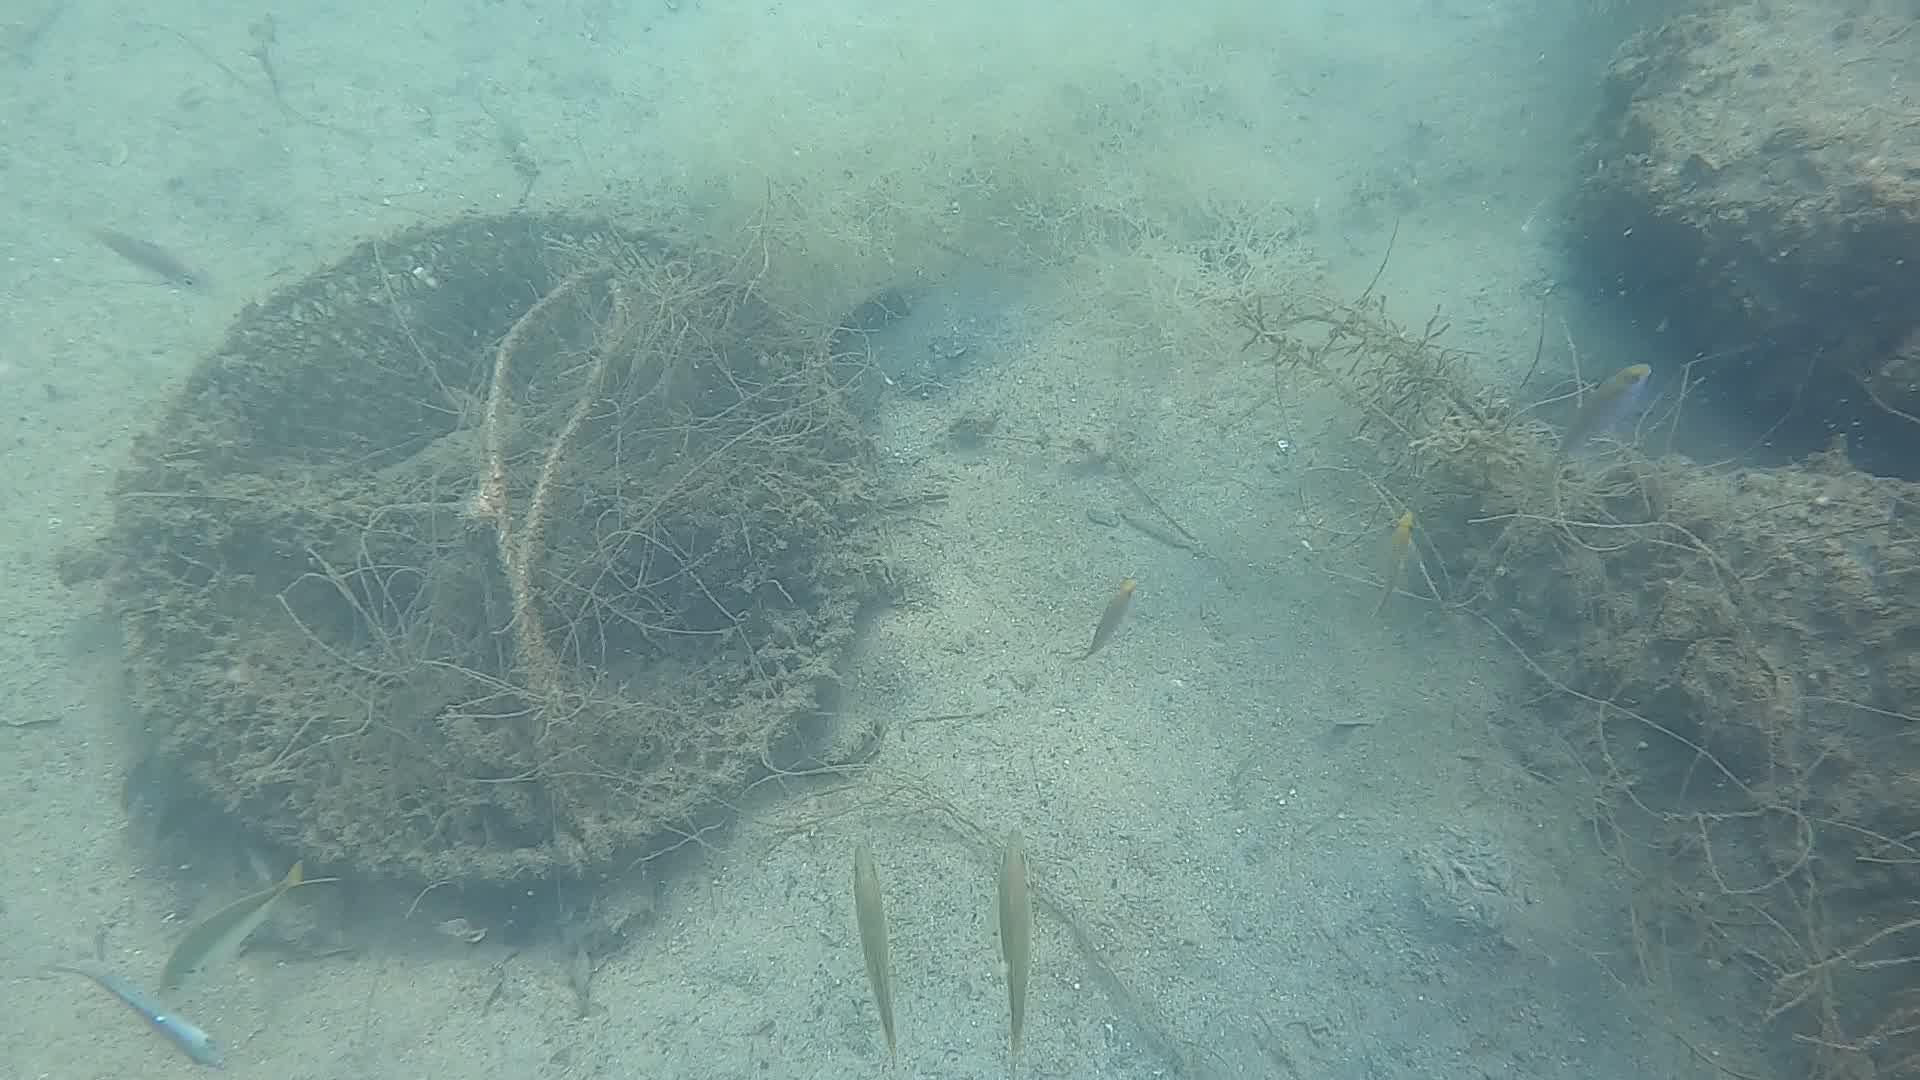circular fish trap: (98, 199, 876, 893)
